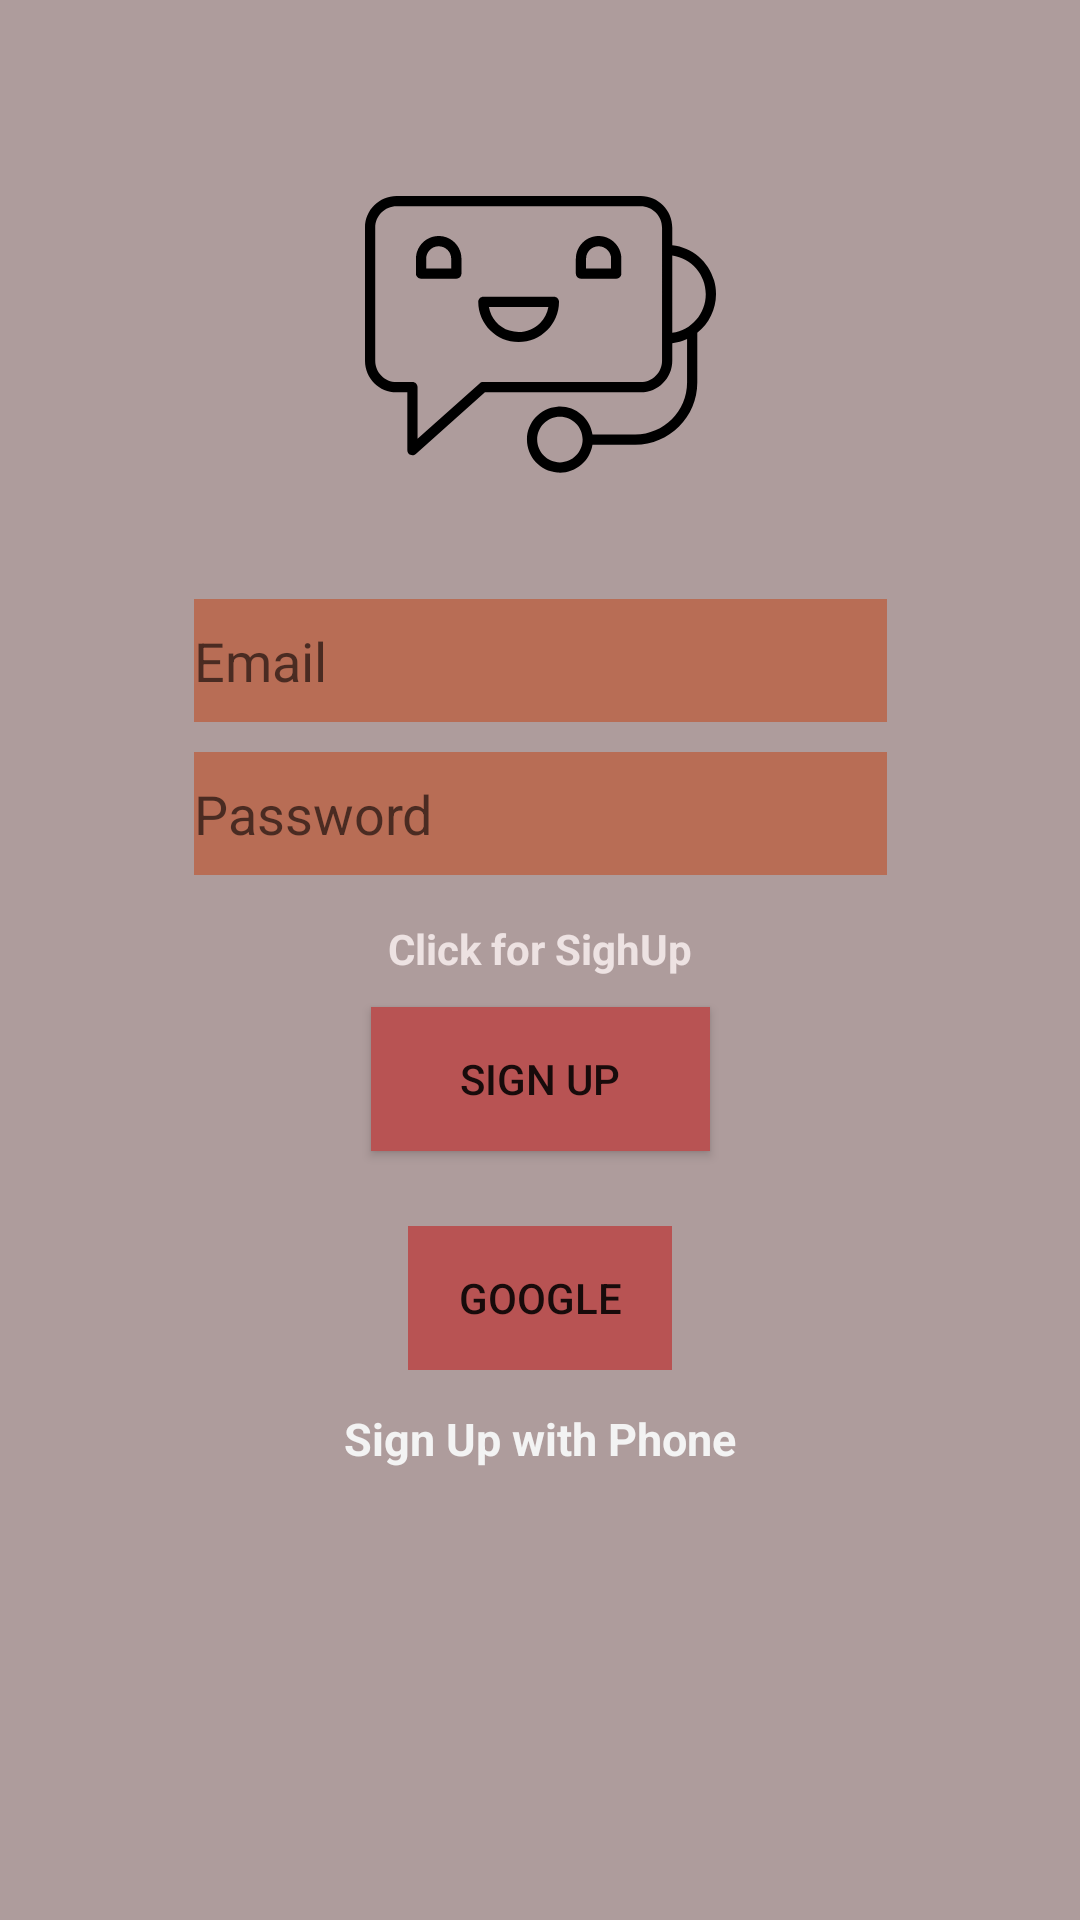

Screen size 1080 x 1920. Icon name, then its box in pixels as (x1,y1,x2,y2):
chat: (365,196,716,473)
